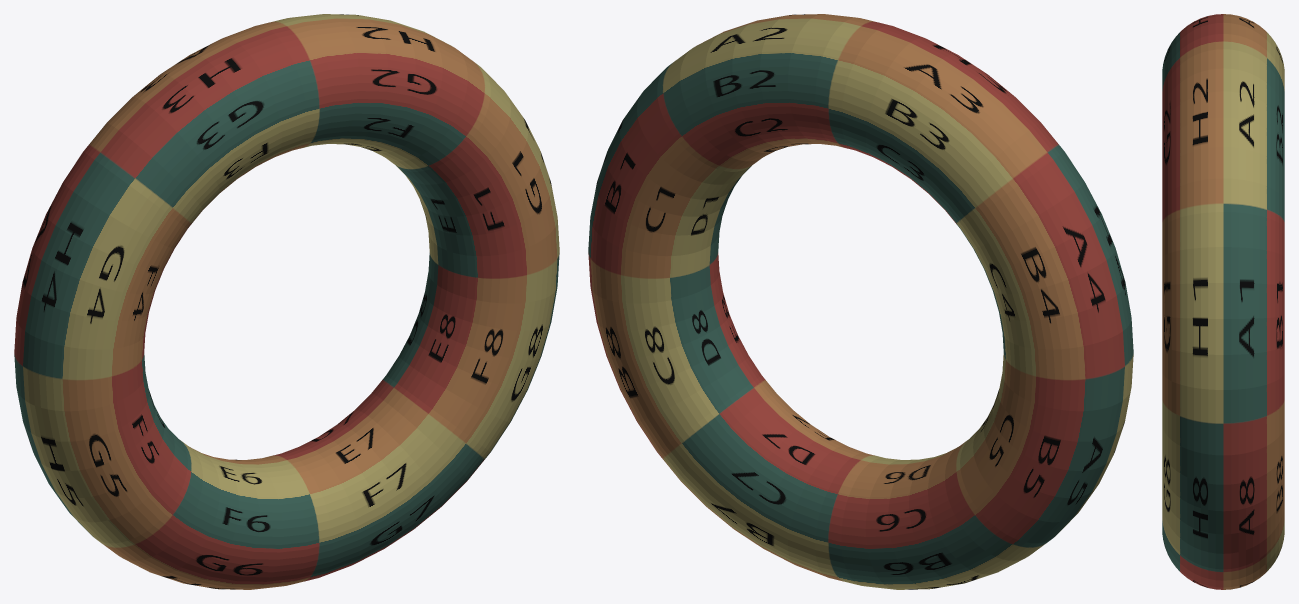
Rendered from texture_torus_R30_r23.glb.
The picture shows the model from 3 angles, left to right: view 1: azimuth 30°, elevation 25°; view 2: azimuth 150°, elevation 25°; view 3: azimuth 270°, elevation 25°; orthographic projection. The views are drawn at different scales.
Visible parts, largest first — view 1: world; view 2: world; view 3: world.
Part boxes in pixels (bbox=[...]): world: bbox=[14, 14, 559, 589]; world: bbox=[588, 14, 1133, 589]; world: bbox=[1162, 14, 1284, 589].
Bounding box in the file's own units: 38.13 × 38.06 × 8.12.
1 material, 1 textured.
